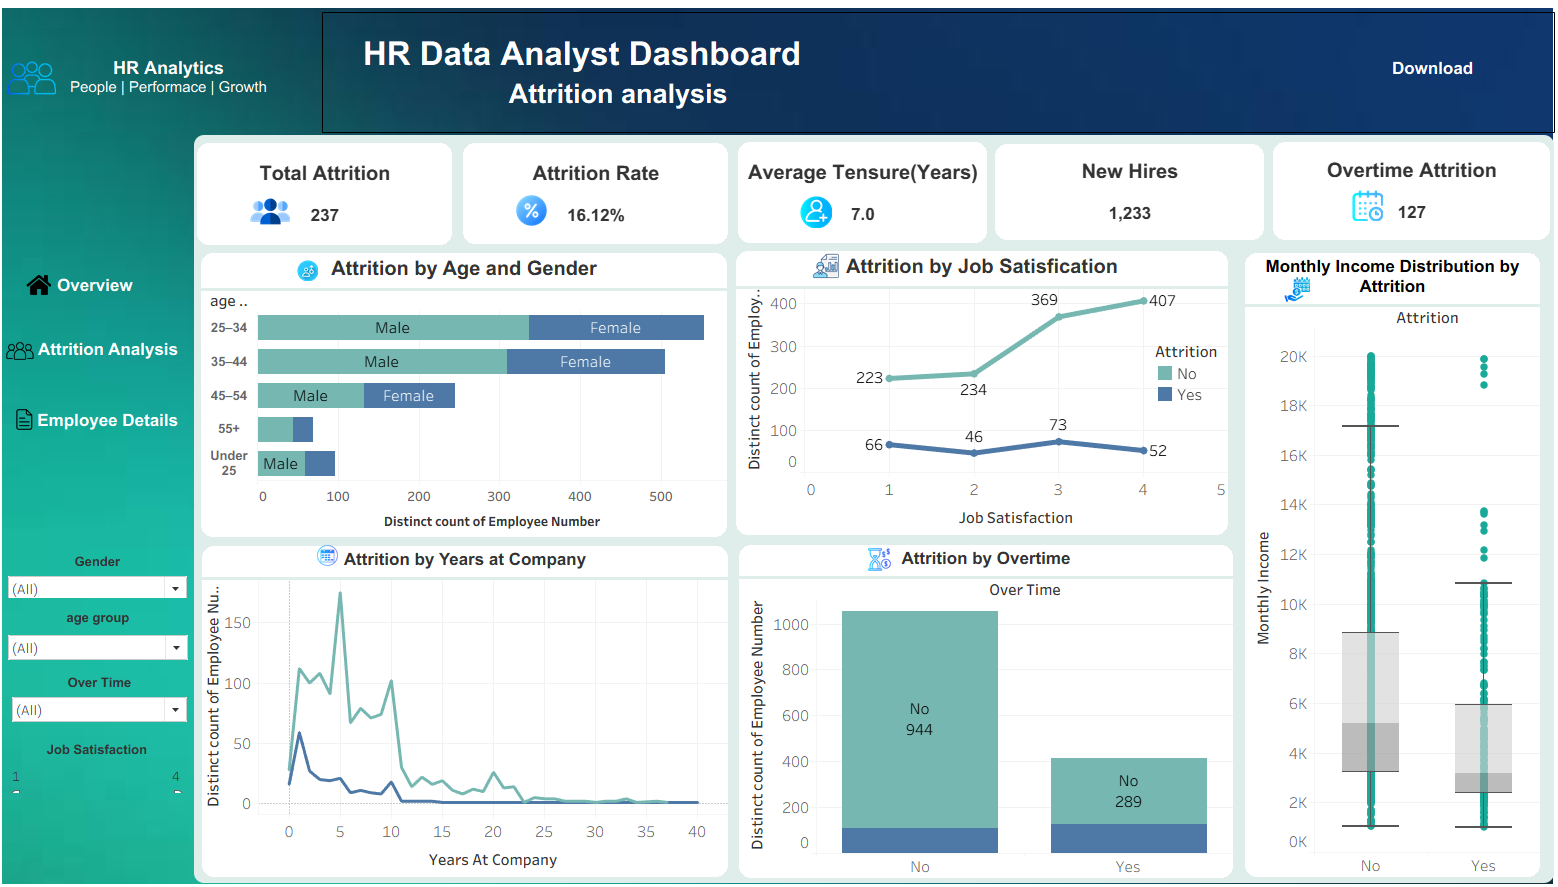

The page's visual inventory and layout, read from the dashboard file:
{"tool":"tableau","page":{"name":"Attrition Analysis","canvas":[1580,900],"ordinal":0},"visuals":[{"type":"image","param":"C:/Users/User/OneDrive/Desktop/HR tableau Project/back.png","box":[8,8,1564,884]},{"type":"text","box":[334,16,1233,121]},{"type":"text","box":[55,39,251,84]},{"type":"dashboard-object","box":[1363,47,164,52]},{"type":"image","param":"C:/Users/User/Downloads/group (1).png","box":[19,56,49,51]},{"type":"blank","box":[206,139,1360,748]},{"type":"worksheet","title":"Average Tensure(Years) ","mark":"Automatic","box":[750,146,249,101]},{"type":"worksheet","title":"Active Employees","mark":"Automatic","box":[1007,146,266,101]},{"type":"worksheet","title":"Overtime Attrition","mark":"Automatic","box":[1285,146,277,98]},{"type":"worksheet","title":"Total Attrition","mark":"Automatic","box":[209,147,255,102]},{"type":"worksheet","title":"Attrition Rate ","mark":"Automatic","box":[475,147,265,101]},{"type":"worksheet","title":"New Hires ","mark":"Automatic","box":[1007,148,269,96]},{"type":"image","param":"C:/Users/User/Downloads/calendar.png","box":[1363,194,33,31]},{"type":"image","param":"C:/Users/User/Downloads/group.png","box":[259,195,46,40]},{"type":"image","param":"C:/Users/User/Downloads/percentage.png","box":[527,197,32,35]},{"type":"image","param":"C:/Users/User/Downloads/add-user.png","box":[810,200,37,32]},{"type":"dashboard-object","box":[10,255,196,69]},{"type":"worksheet","title":"Attrition by Job Satisfication","mark":"Line","rows":["Employee Number"],"cols":["Job Satisfaction"],"box":[748,255,492,284]},{"type":"image","param":"C:/Users/User/Downloads/hr.png","box":[821,256,33,27]},{"type":"worksheet","title":"Attrition by Age and Gender","mark":"Automatic","rows":["Calculation_1281265421750272"],"cols":["Employee Number"],"box":[213,257,526,284]},{"type":"worksheet","title":"Attrition by Monthly Income","mark":"Circle","rows":["Monthly Income"],"cols":["Attrition"],"box":[1257,257,295,624]},{"type":"image","param":"C:/Users/User/Downloads/male.png","box":[309,264,24,21]},{"type":"image","param":"C:/Users/User/Downloads/home (2).png","box":[38,276,26,25]},{"type":"image","param":"C:/Users/User/Downloads/wages (1).png","box":[1294,280,30,26]},{"type":"image","param":"C:/Users/User/Downloads/hire.png","box":[900,319,41,38]},{"type":"dashboard-object","box":[12,323,192,62]},{"type":"image","param":"C:/Users/User/Downloads/teamwork.png","box":[16,338,31,34]},{"type":"legend","title":"Attrition by Job Satisfication","param":"[federated.17kbyo00i53ng917owns715d3iit].[none:Attrition:nk]","box":[1167,345,140,64]},{"type":"dashboard-object","box":[10,392,193,65]},{"type":"image","param":"C:/Users/User/Downloads/page.png","box":[25,409,22,29]},{"type":"image","param":"C:/Users/User/Downloads/calendar (1).png","box":[328,547,22,24]},{"type":"worksheet","title":"Attrition by Overtime","mark":"Automatic","rows":["Employee Number"],"cols":["Over Time"],"box":[751,549,494,333]},{"type":"image","param":"C:/Users/User/Downloads/business-and-finance.png","box":[878,549,26,28]},{"type":"worksheet","title":"Attrition by Years at Company","mark":"Automatic","rows":["Employee Number"],"cols":["Years At Company"],"box":[214,550,526,331]},{"type":"filter","title":"Attrition by Age and Gender","param":"[federated.17kbyo00i53ng917owns715d3iit].[none:Gender:nk]","box":[17,558,185,44]},{"type":"filter","title":"Attrition by Age and Gender","param":"[federated.17kbyo00i53ng917owns715d3iit].[none:Calculation_1281265421750272:nk]","box":[17,614,186,55]},{"type":"filter","title":"Attrition by Overtime","param":"[federated.17kbyo00i53ng917owns715d3iit].[none:Over Time:nk]","box":[21,679,181,47]},{"type":"filter","title":"Attrition by Job Satisfication","param":"[federated.17kbyo00i53ng917owns715d3iit].[none:Job Satisfaction:qk]","box":[19,746,180,51]}]}

Visuals, with their boxes in screenshot pixels (x1, y1, x2, y2), scaled from the page's 1580x900 canvas onto the 1558x887 screenshot:
image: 8, 8, 1550, 879
text: 329, 16, 1545, 135
text: 54, 38, 302, 121
dashboard-object: 1344, 46, 1506, 98
image: 19, 55, 67, 105
blank: 203, 137, 1544, 874
"Average Tensure(Years) " worksheet: 740, 144, 985, 243
"Active Employees" worksheet: 993, 144, 1255, 243
"Overtime Attrition" worksheet: 1267, 144, 1540, 240
"Total Attrition" worksheet: 206, 145, 458, 245
"Attrition Rate " worksheet: 468, 145, 730, 244
"New Hires " worksheet: 993, 146, 1258, 240
image: 1344, 191, 1377, 222
image: 255, 192, 301, 232
image: 520, 194, 551, 229
image: 799, 197, 835, 229
dashboard-object: 10, 251, 203, 319
"Attrition by Job Satisfication" worksheet (Line marks): 738, 251, 1223, 531
image: 810, 252, 842, 279
"Attrition by Age and Gender" worksheet: 210, 253, 729, 533
"Attrition by Monthly Income" worksheet (Circle marks): 1239, 253, 1530, 868
image: 305, 260, 328, 281
image: 37, 272, 63, 297
image: 1276, 276, 1306, 302
image: 887, 314, 928, 352
dashboard-object: 12, 318, 201, 379
image: 16, 333, 46, 367
"Attrition by Job Satisfication" legend: 1151, 340, 1289, 403
dashboard-object: 10, 386, 200, 450
image: 25, 403, 46, 432
image: 323, 539, 345, 563
"Attrition by Overtime" worksheet: 741, 541, 1228, 869
image: 866, 541, 891, 569
"Attrition by Years at Company" worksheet: 211, 542, 730, 868
"Attrition by Age and Gender" filter: 17, 550, 199, 593
"Attrition by Age and Gender" filter: 17, 605, 200, 659
"Attrition by Overtime" filter: 21, 669, 199, 716
"Attrition by Job Satisfication" filter: 19, 735, 196, 785
